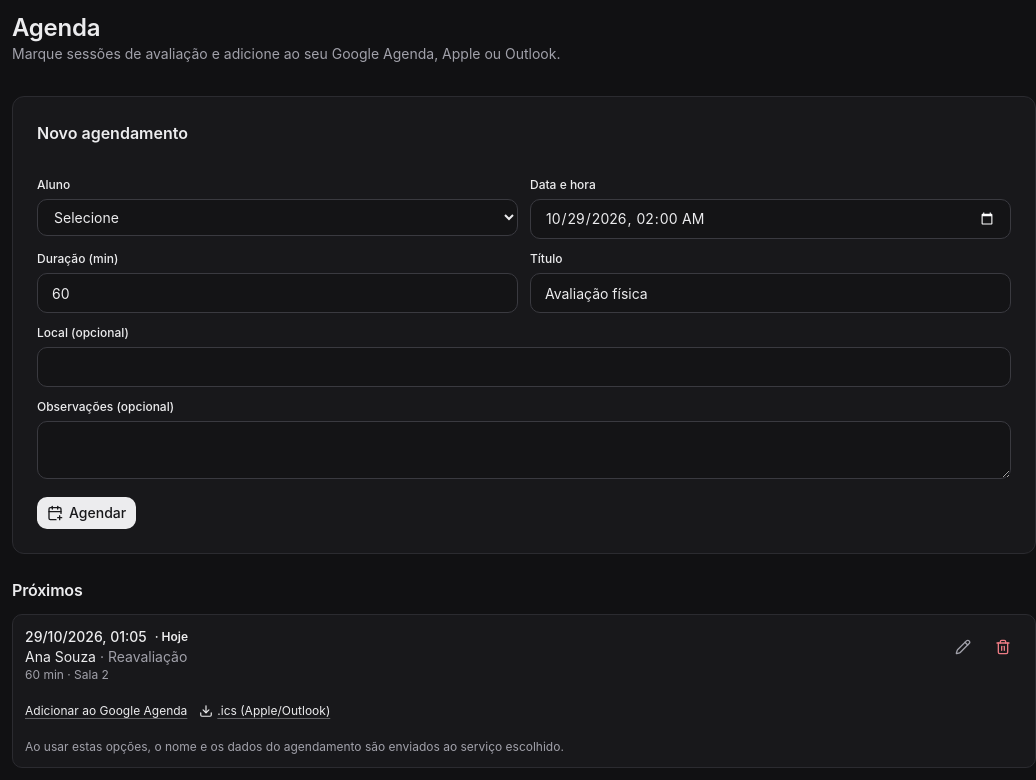
Scenario: Agenda › edita um compromisso sem trocar o aluno
Click the button named "Editar agendamento de Ana Souza". click: (963, 647)
box: [943, 627, 983, 667]
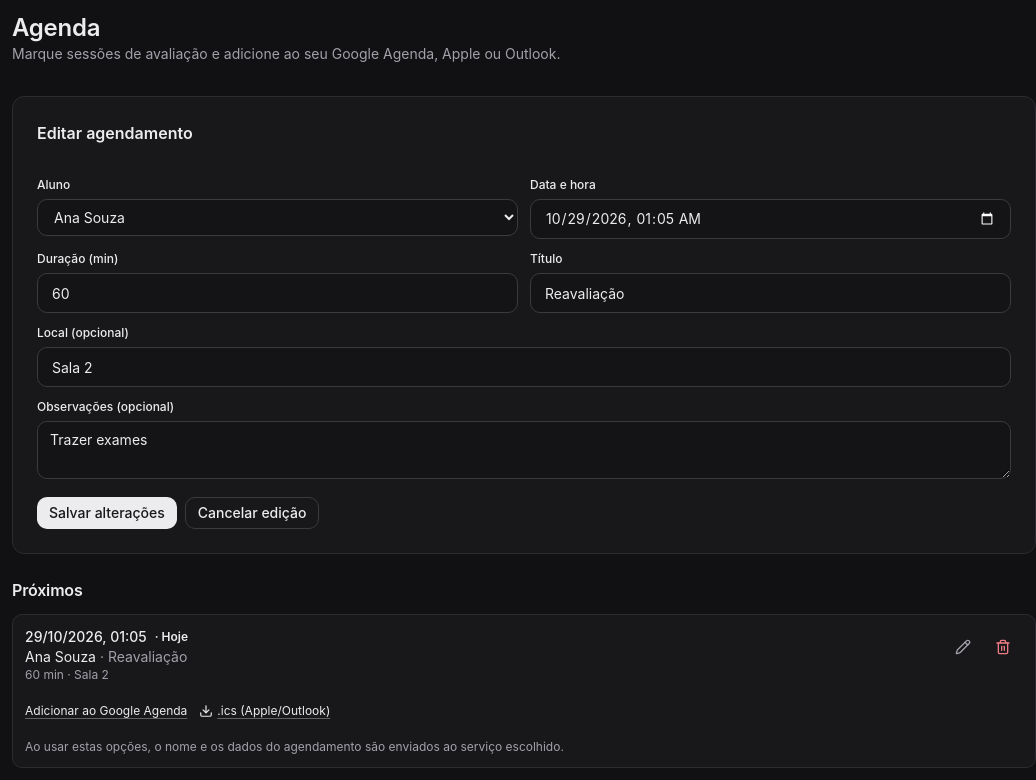
Check: the text "Editar agendamento" is shown, box [37, 123, 193, 143]
Check: the dropdown labelled "Aluno" is disabled, box [37, 199, 518, 236]
Check: the field labelled "Título" holds "Reavaliação", box [530, 273, 1011, 313]
Replace the text in the number field labelled "Duração (min)" with "90". click: (278, 293)
box: [37, 273, 518, 313]
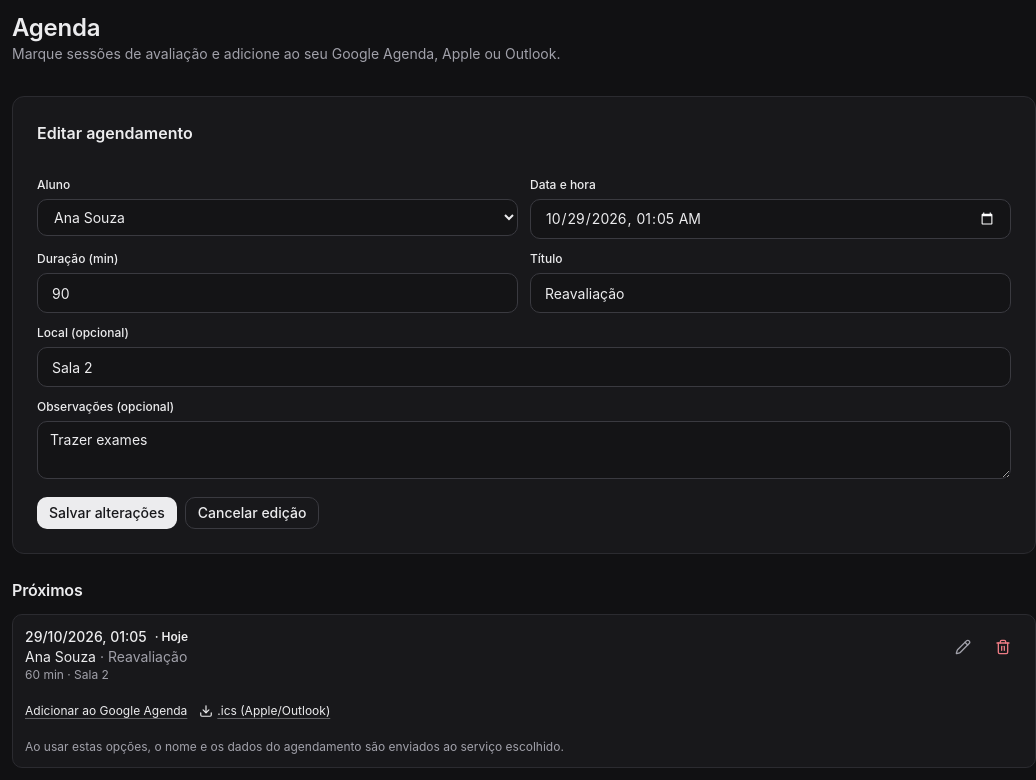
Click the button "Salvar alterações". click: (107, 513)
box: [37, 497, 177, 529]
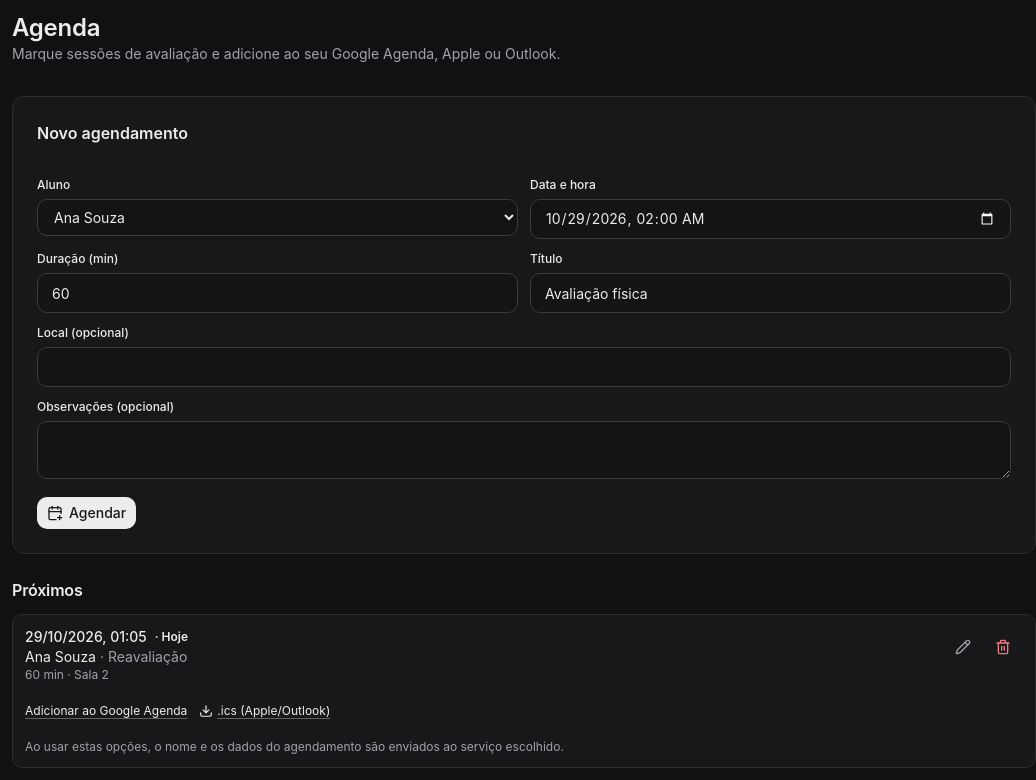
Check: the text "Novo agendamento" is shown, box [37, 123, 188, 143]
